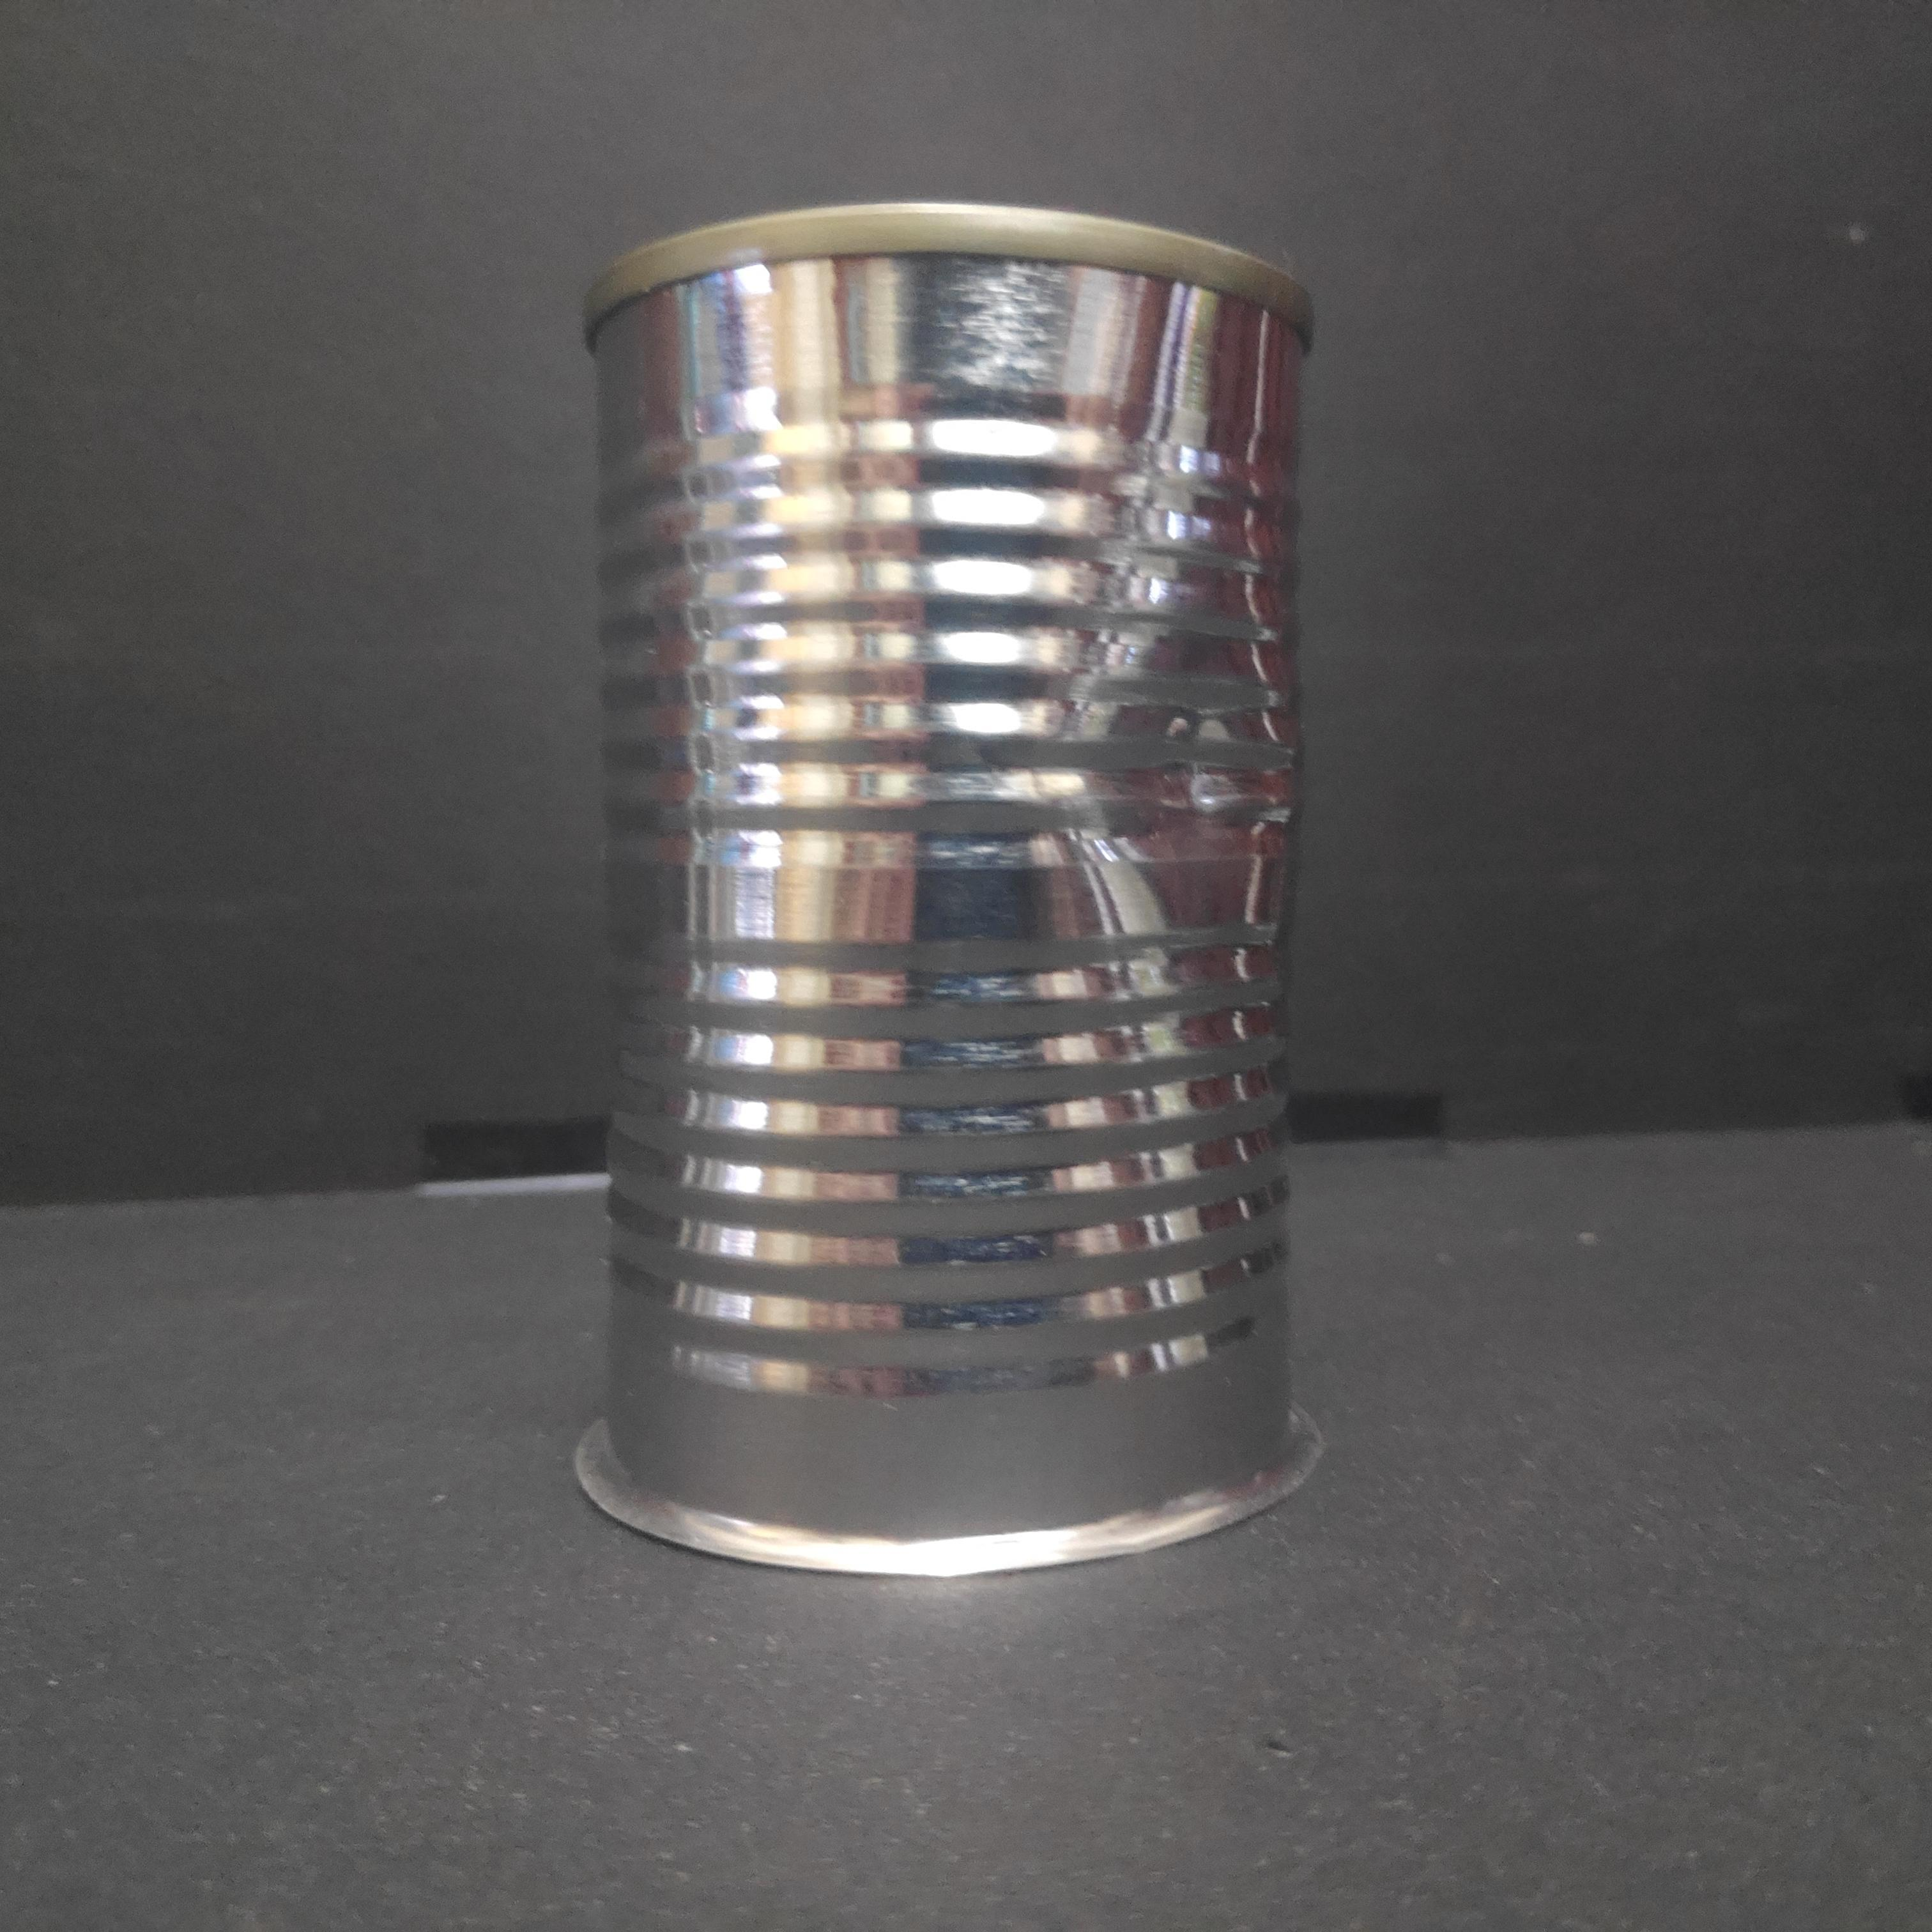Dented: (566, 189, 1336, 1598)
